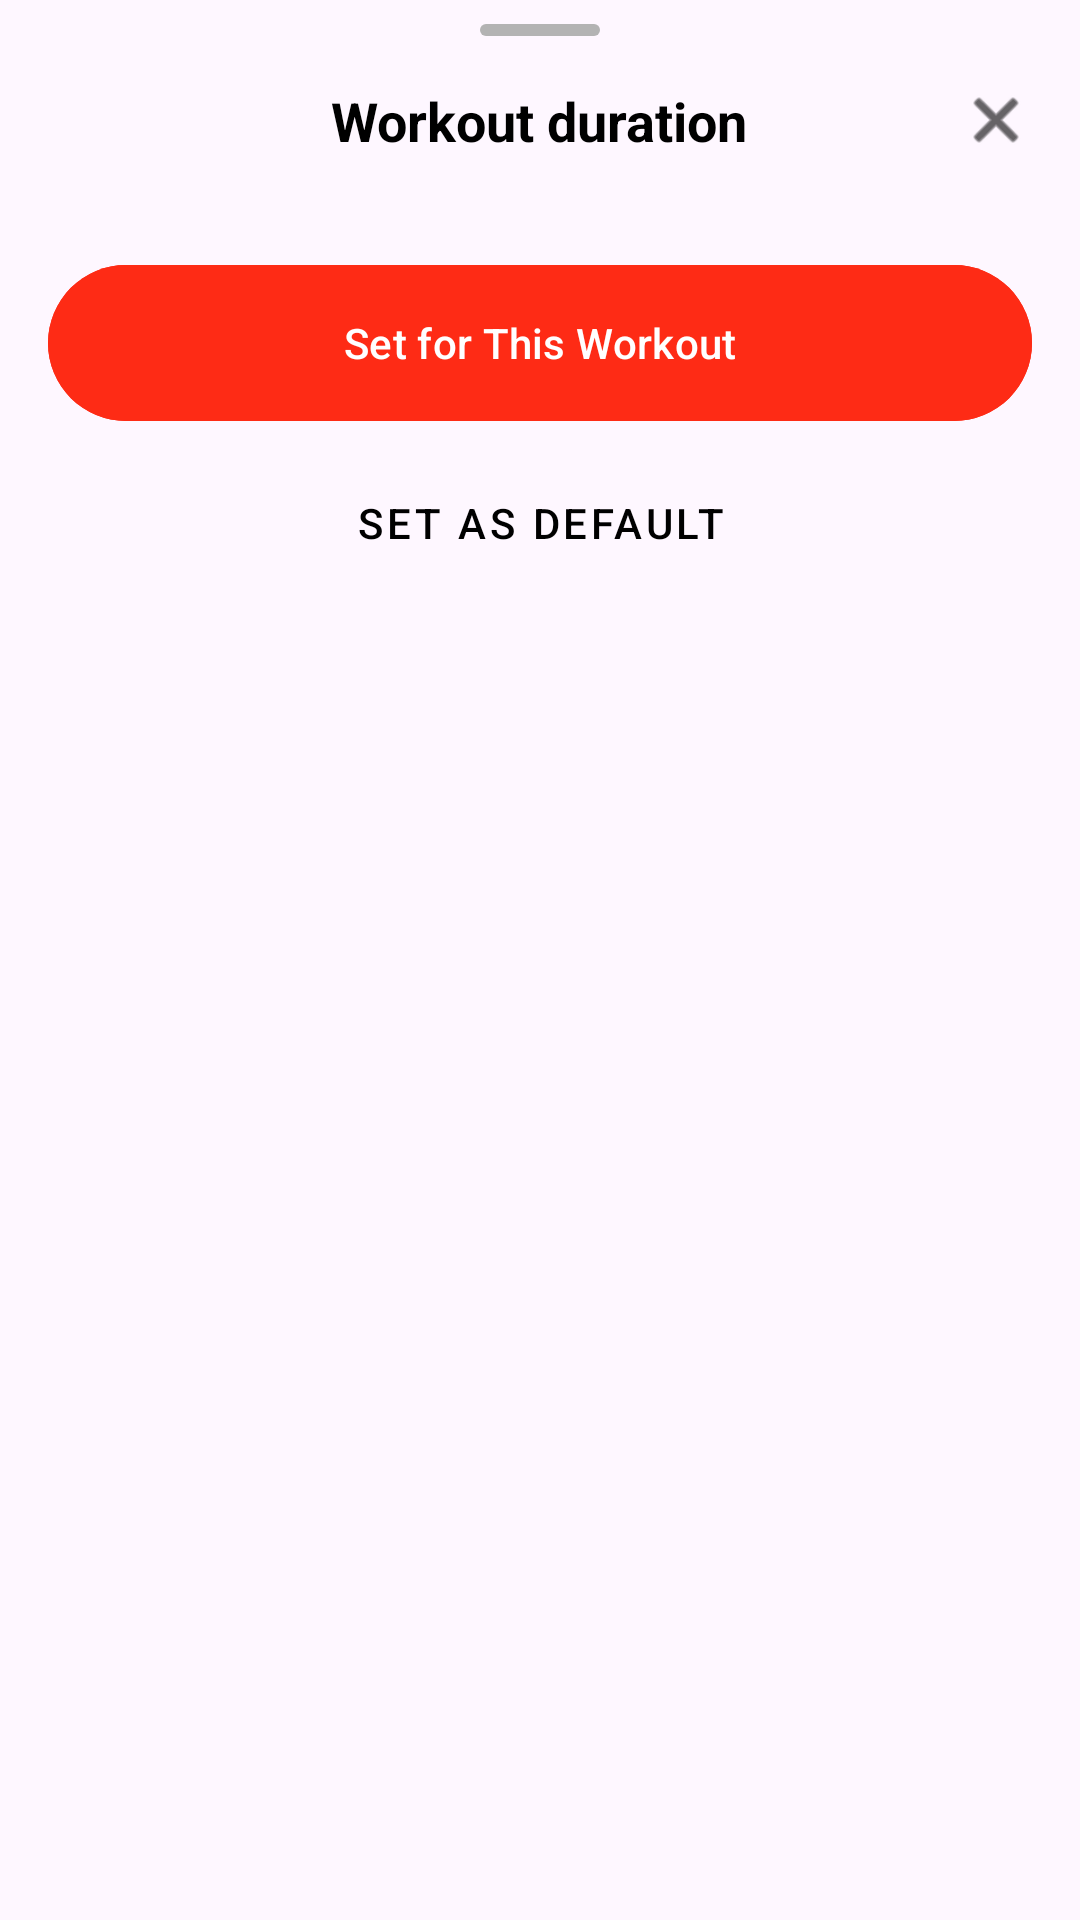

Named icons in this screenshot (1080×1920) and their centers, [x,y]:
close clear cancel: [996,120]
